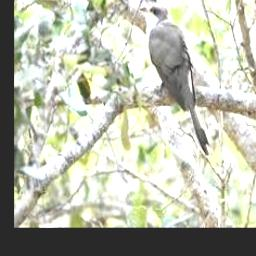Cuckoo: (141, 4, 209, 155)
